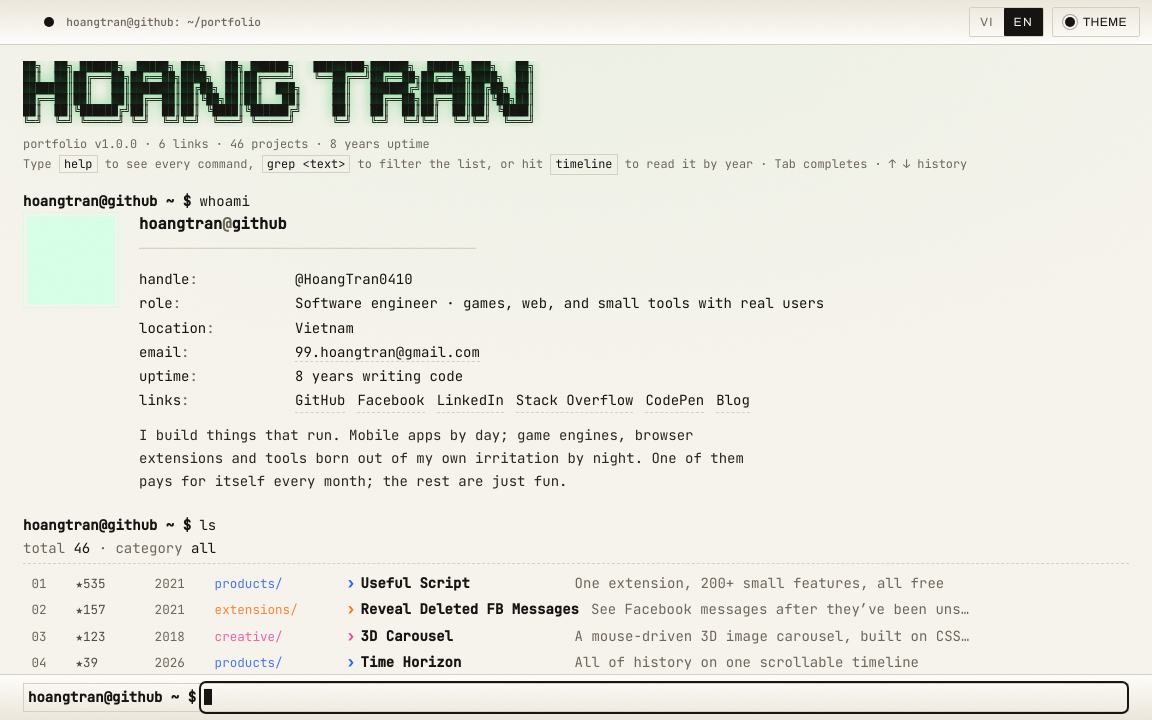
Test case: Terminal › Tab hoàn thành tên lệnh
The width and height of the screenshot is (1152, 720).
In the field named "Command line": (664, 697) x1=204 y1=686 x2=1124 y2=709, type "wh"
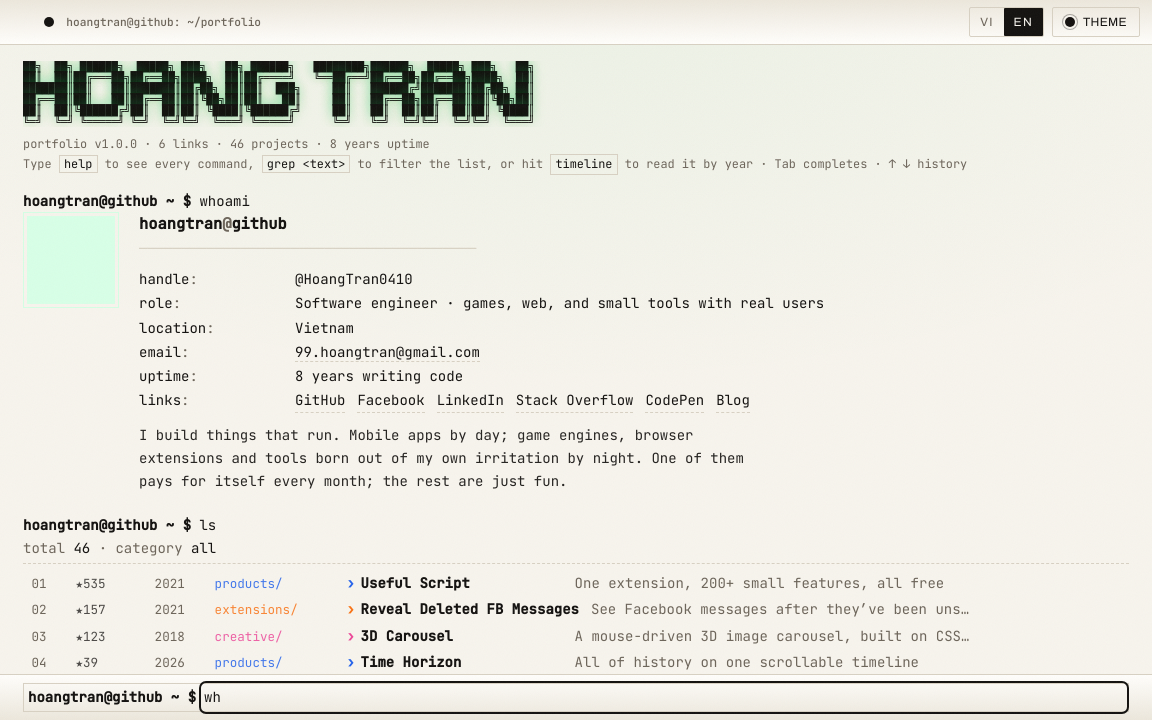
Press Tab
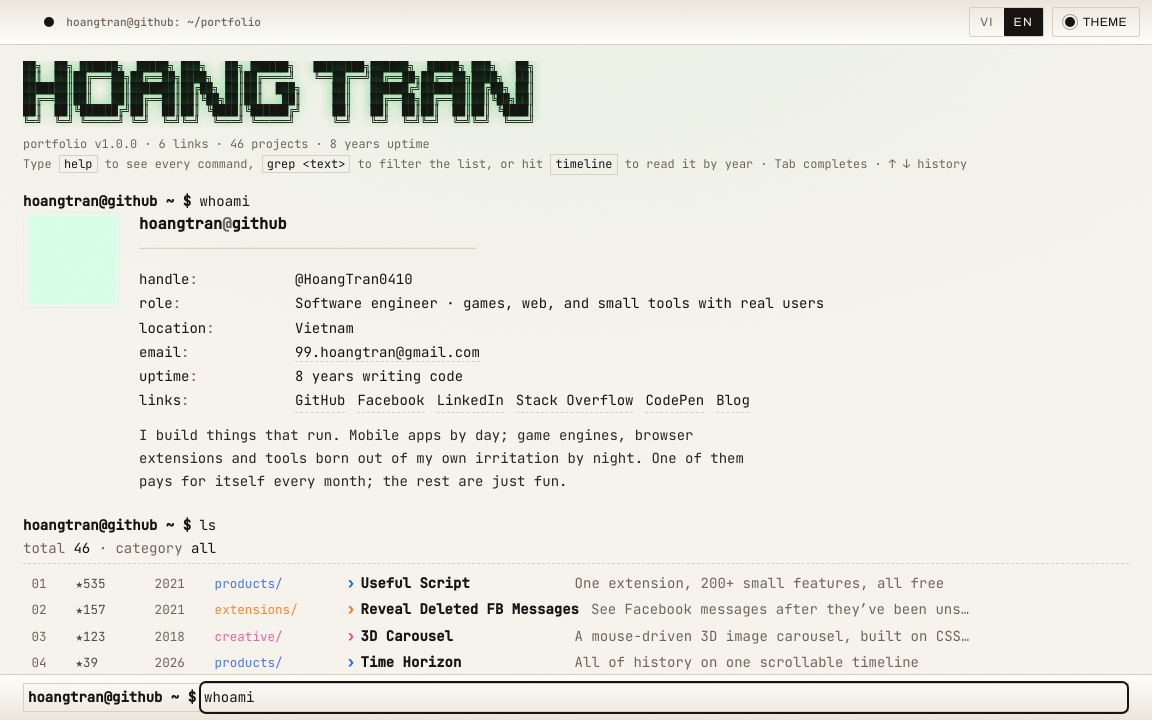
Now the field named "Command line" holds "whoami", box x1=204 y1=686 x2=1124 y2=709
